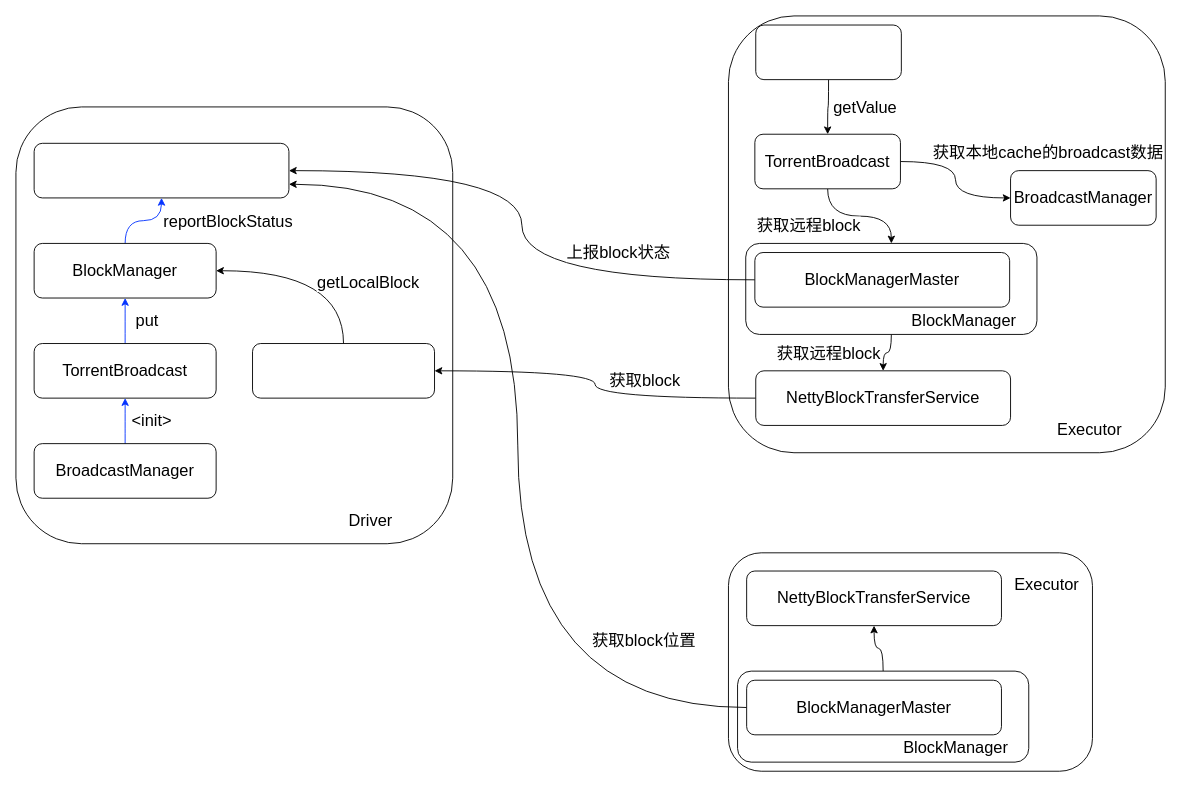
This 1181x787 diagram has some shape labels left out. The shapes that lost their labels are listed below. From the top down, each one's centre as x and y in pixels, then its label:
At point (828, 52): "Task".
At point (161, 170): "BlockManagerMasterEndpoint".
At point (343, 370): "NettyBlockRpcServer".
